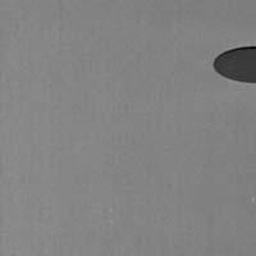Punching: (212, 45, 256, 84)
